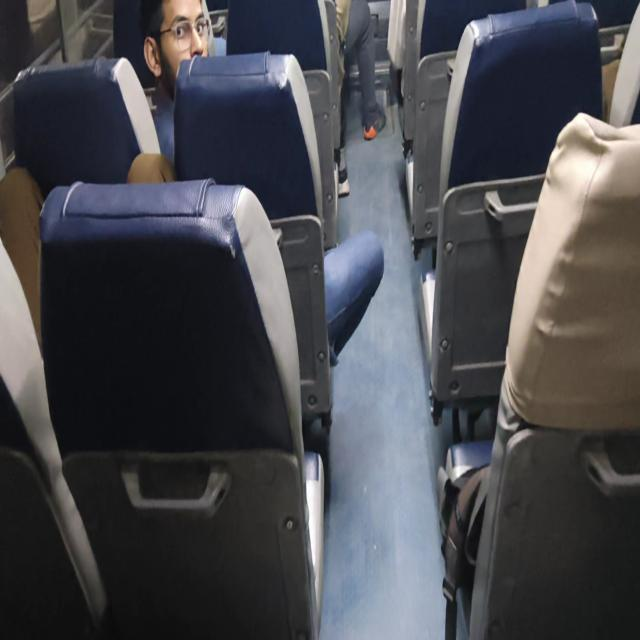person: (127, 0, 384, 361), (1, 0, 211, 354), (126, 0, 211, 184), (335, 0, 387, 141)
